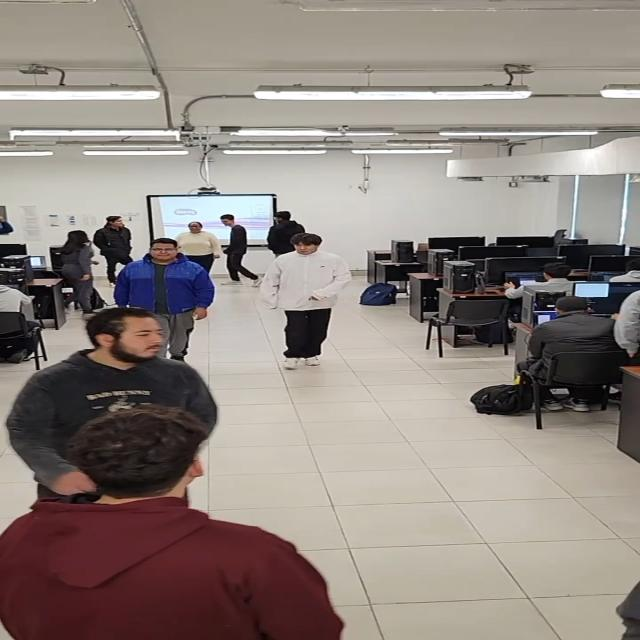Persona: (0, 412, 348, 640), (14, 310, 221, 480), (265, 233, 352, 372), (120, 236, 209, 350), (59, 228, 101, 315), (218, 213, 259, 288), (95, 212, 133, 289), (176, 213, 219, 273)
